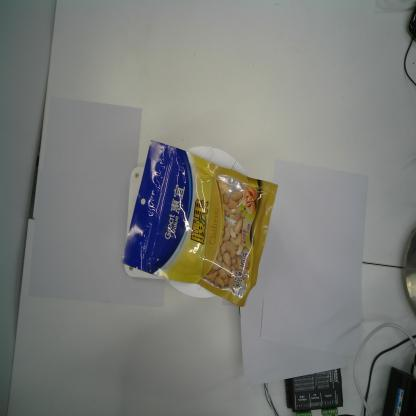Dried Fruit: (118, 139, 280, 309)
